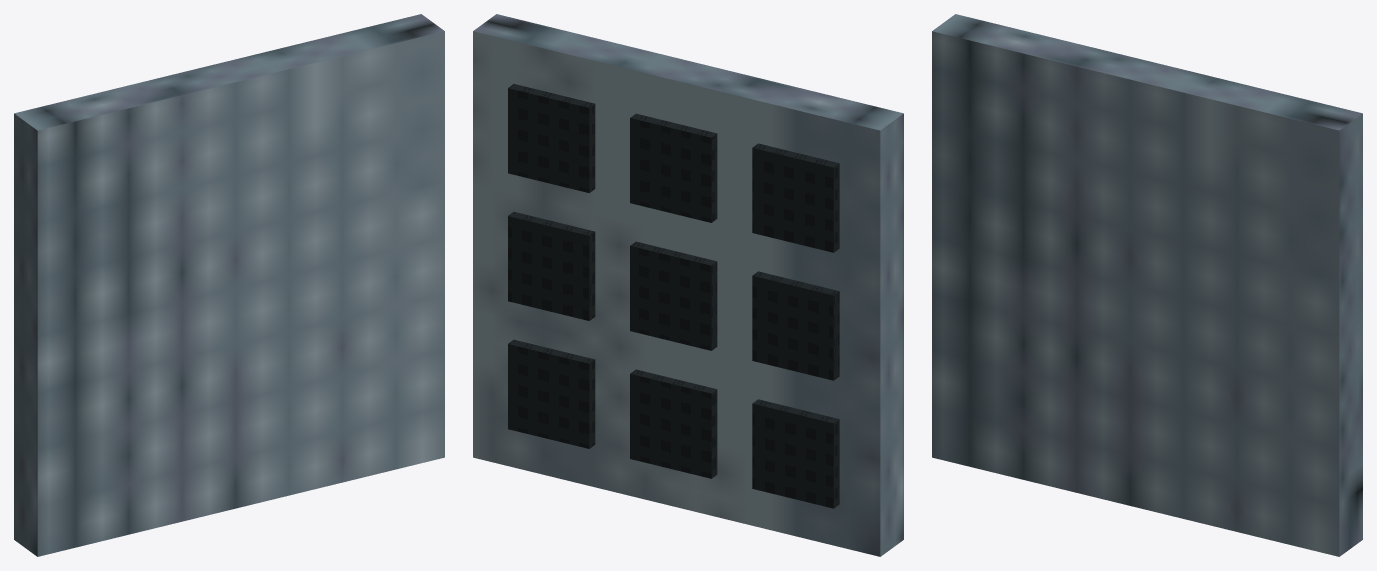
The model's file is LightPuzzle.fbx.
3 views of the same model, side by side, from view 1: azimuth 30°, elevation 25°; view 2: azimuth 150°, elevation 25°; view 3: azimuth 330°, elevation 25° (orthographic).
Parts seen in each view (by area): view 1: LightPuzzle; view 2: LightPuzzle; view 3: LightPuzzle.
Boxes of the visible parts, <box> form: LightPuzzle: <box>14,14,444,556</box>; LightPuzzle: <box>473,14,903,556</box>; LightPuzzle: <box>932,14,1362,556</box>.
Size of the model in its own units: 45.06 by 5.63 by 45.06.
Materials: 2 (2 with a texture image).
